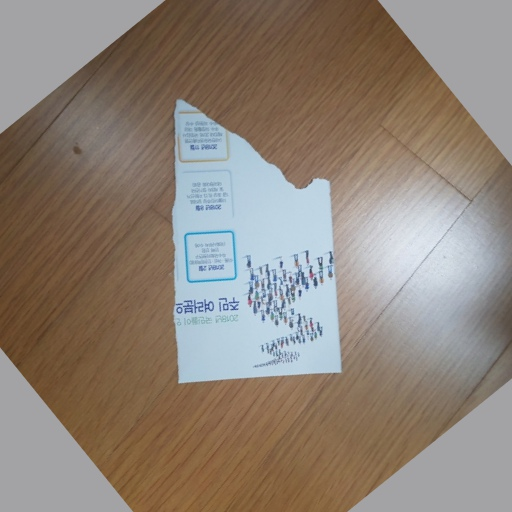Paper_2: (166, 176, 385, 410)
